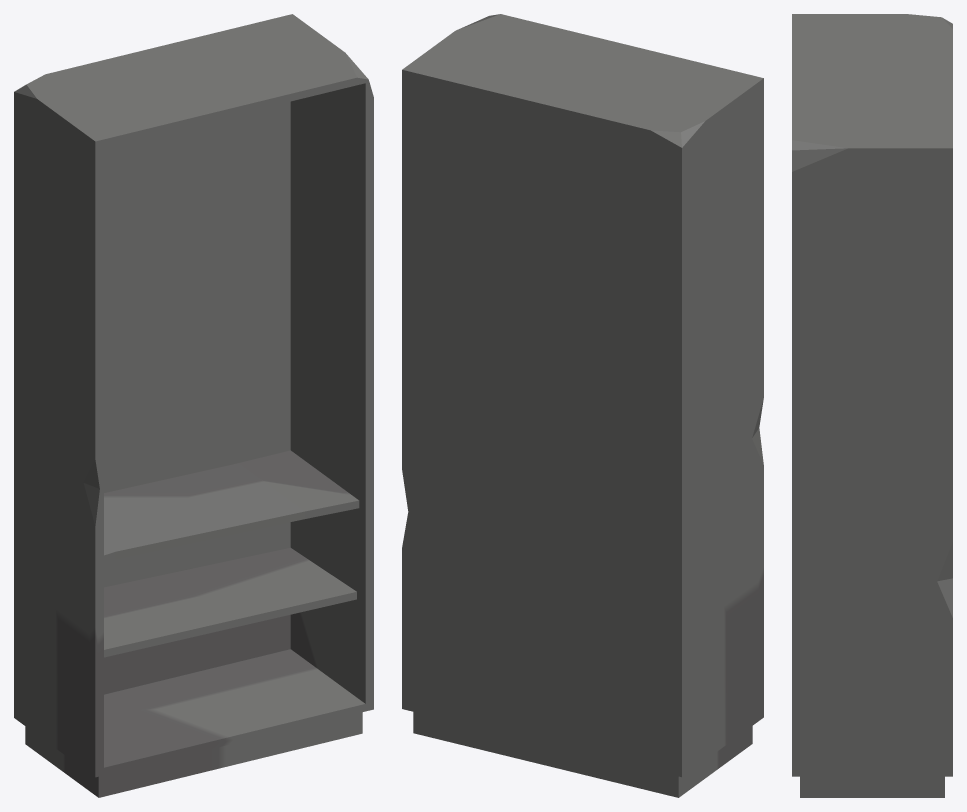
File: SM_Prop_Cabinet_01.fbx
3 views of the same model, side by side, from view 1: azimuth 30°, elevation 25°; view 2: azimuth 150°, elevation 25°; view 3: azimuth 270°, elevation 25° (orthographic).
Visible parts, largest first — view 1: SM_Prop_Cabinet_01; view 2: SM_Prop_Cabinet_01; view 3: SM_Prop_Cabinet_01.
Boxes of the visible parts, bbox=[...] form: SM_Prop_Cabinet_01: bbox=[14, 14, 373, 797]; SM_Prop_Cabinet_01: bbox=[402, 14, 763, 797]; SM_Prop_Cabinet_01: bbox=[792, 14, 952, 797].
Bounding box in the file's own units: 105 × 238 × 53.18.
